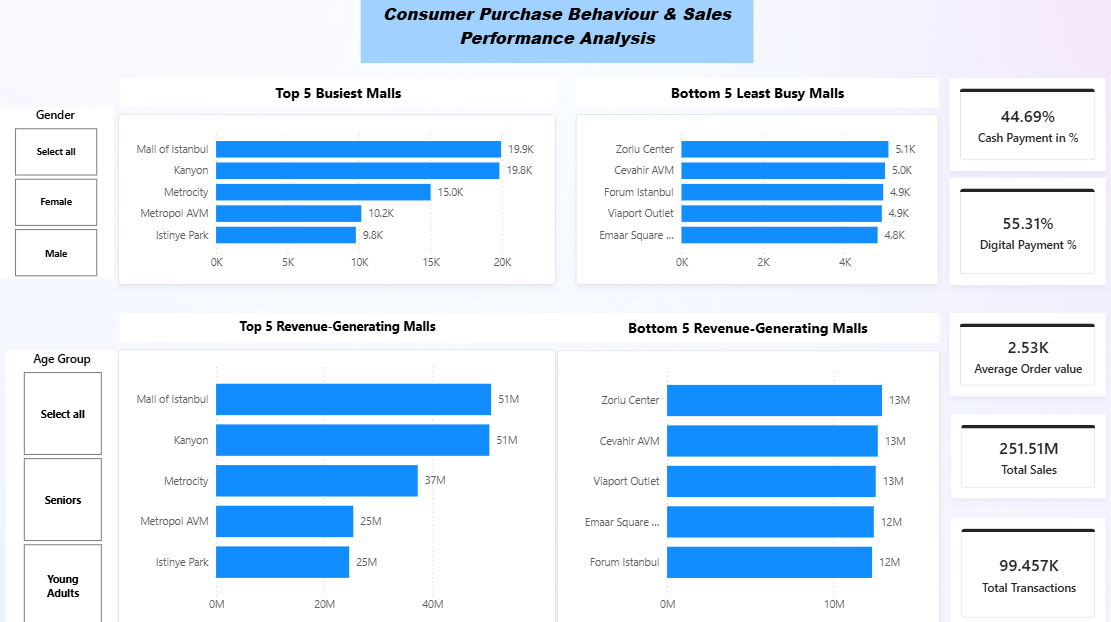

The page's visual inventory and layout, read from the dashboard file:
{"tool":"powerbi","page":{"name":"Mall Performance ","canvas":[1280,720],"ordinal":0},"visuals":[{"type":"slicer","title":"Gender","fields":{"Values":["customer_shopping_data.gender"]},"box":[0,124.7,133.3,195.7],"z":0},{"type":"slicer","title":"Age Group","fields":{"Values":["customer_shopping_data.Age Group"]},"box":[9.8,402.3,128.4,317.9],"z":1000},{"type":"clusteredBarChart","fields":{"Category":["customer_shopping_data.shopping_mall"],"Y":["Count(customer_shopping_data.invoice_no)"]},"box":[138.4,132.9,499.7,195.2],"z":2000},{"type":"clusteredBarChart","fields":{"Category":["customer_shopping_data.shopping_mall"],"Y":["Count(customer_shopping_data.invoice_no)"]},"box":[661.6,132.9,415.2,195.2],"z":3000},{"type":"cardVisual","title":"Payment in cash","fields":{"Data":["customer_shopping_data.cash_payment_%"]},"box":[1088.8,91.2,178.8,106.2],"z":4000},{"type":"textbox","box":[415.2,0,448.4,74.7],"z":7000},{"type":"cardVisual","title":"Payment in cash","fields":{"Data":["customer_shopping_data.Digital Payment %"]},"box":[1088.8,205,178.8,122.5],"z":8000},{"type":"cardVisual","title":"Payment in cash","fields":{"Data":["customer_shopping_data.Average Order value"]},"box":[1088.8,360,178.8,95],"z":9000},{"type":"cardVisual","title":"Payment in cash","fields":{"Data":["Sum(customer_shopping_data.Sales)"]},"box":[1090,475,177.5,96.2],"z":10000},{"type":"cardVisual","title":"Payment in cash","fields":{"Data":["CountNonNull(customer_shopping_data.invoice_no)"]},"box":[1090,593.8,177.5,126.2],"z":11000},{"type":"textbox","box":[139.4,91.7,500.1,33],"z":12000},{"type":"textbox","box":[661.6,91.3,415.2,33.2],"z":12001},{"type":"clusteredBarChart","fields":{"Category":["customer_shopping_data.shopping_mall"],"Y":["Sum(customer_shopping_data.Sales)"]},"box":[138.4,401.4,499.7,318.3],"z":12002},{"type":"clusteredBarChart","fields":{"Category":["customer_shopping_data.shopping_mall"],"Y":["Sum(customer_shopping_data.Sales)"]},"box":[639.4,402.8,437.4,317],"z":12003},{"type":"textbox","box":[139.8,359.9,498.3,33.2],"z":12004},{"type":"textbox","box":[638.1,359.9,438.8,33.2],"z":12005}]}

Visuals, with their boxes in screenshot pixels (x1, y1, x2, y2), scaled from the page's 1280x720 canvas onto the 1111x622 screenshot:
"Gender" slicer: bbox(0, 108, 116, 277)
"Age Group" slicer: bbox(9, 348, 120, 621)
clusteredBarChart - customer_shopping_data.shopping_mall x Count(customer_shopping_data.invoice_no): bbox(120, 115, 554, 283)
clusteredBarChart - customer_shopping_data.shopping_mall x Count(customer_shopping_data.invoice_no): bbox(574, 115, 935, 283)
"Payment in cash" cardVisual: bbox(945, 79, 1100, 171)
textbox: bbox(360, 0, 750, 65)
"Payment in cash" cardVisual: bbox(945, 177, 1100, 283)
"Payment in cash" cardVisual: bbox(945, 311, 1100, 393)
"Payment in cash" cardVisual: bbox(946, 410, 1100, 493)
"Payment in cash" cardVisual: bbox(946, 513, 1100, 621)
textbox: bbox(121, 79, 555, 108)
textbox: bbox(574, 79, 935, 108)
clusteredBarChart - customer_shopping_data.shopping_mall x Sum(customer_shopping_data.Sales): bbox(120, 347, 554, 621)
clusteredBarChart - customer_shopping_data.shopping_mall x Sum(customer_shopping_data.Sales): bbox(555, 348, 935, 621)
textbox: bbox(121, 311, 554, 340)
textbox: bbox(554, 311, 935, 340)
